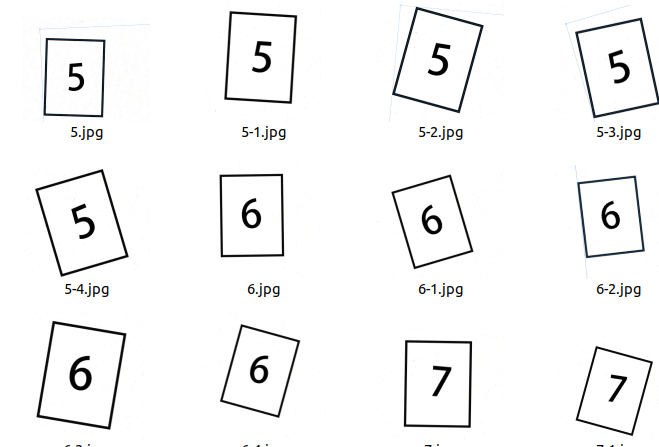five: (244, 22, 279, 88), (61, 196, 105, 248), (595, 42, 636, 95), (56, 50, 92, 105), (421, 33, 456, 86)
seven: (419, 352, 460, 406), (601, 362, 632, 416)
six: (228, 188, 273, 243), (61, 346, 101, 404), (590, 195, 633, 241), (416, 200, 451, 247), (241, 346, 275, 392)
